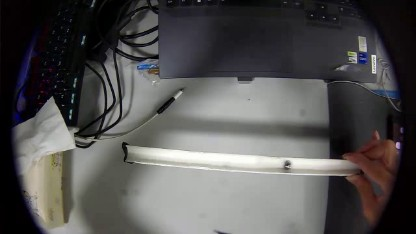gangzhu: (283, 160, 289, 170)
